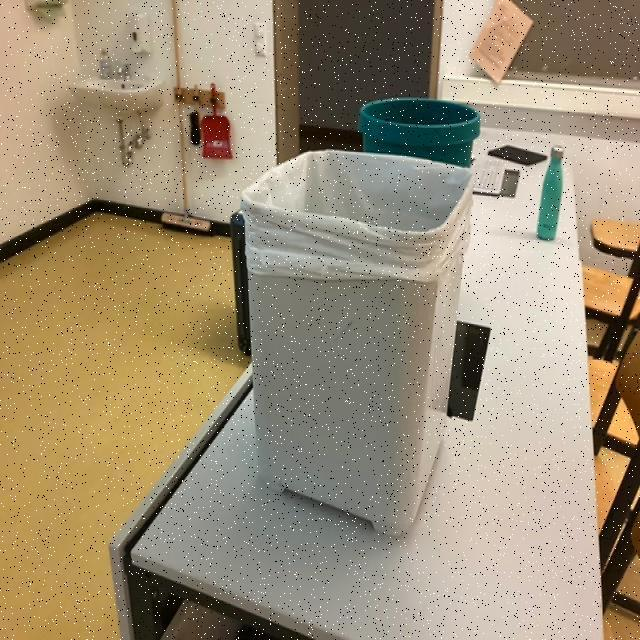garbage container: (234, 136, 484, 548), (361, 89, 490, 149)
